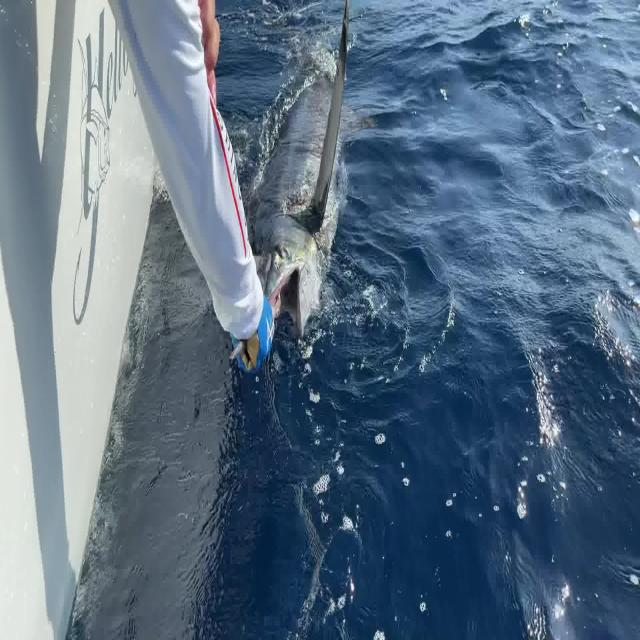Liberacion segura: (228, 0, 377, 362)
